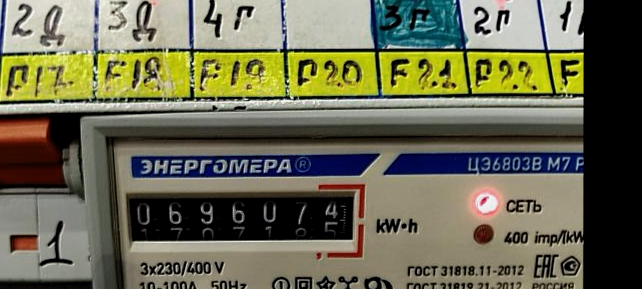0: (134, 201, 153, 226), (261, 198, 278, 224)
4: (323, 197, 339, 219)
5: (323, 220, 339, 240)
6: (229, 198, 247, 225), (166, 200, 184, 225)
7: (293, 199, 309, 225)
9: (198, 199, 214, 225)
screen: (116, 181, 369, 262)
